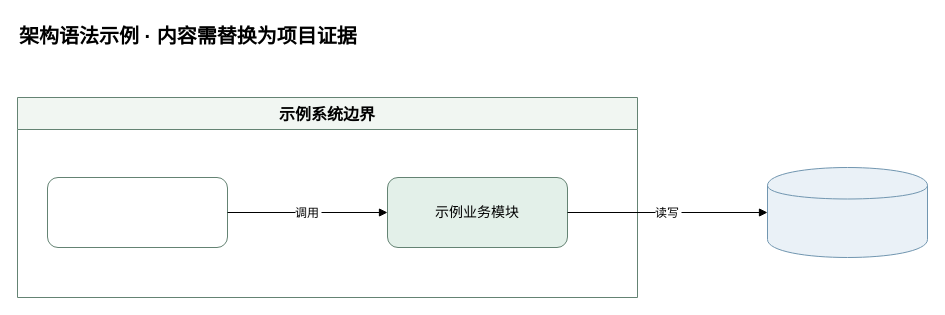
Image size: 945x315. Some labels were removed from this diagram. The centre of each missing label's shape, as x and y in pixels:
示例入口: (137,212)
示例存储: (847,212)
